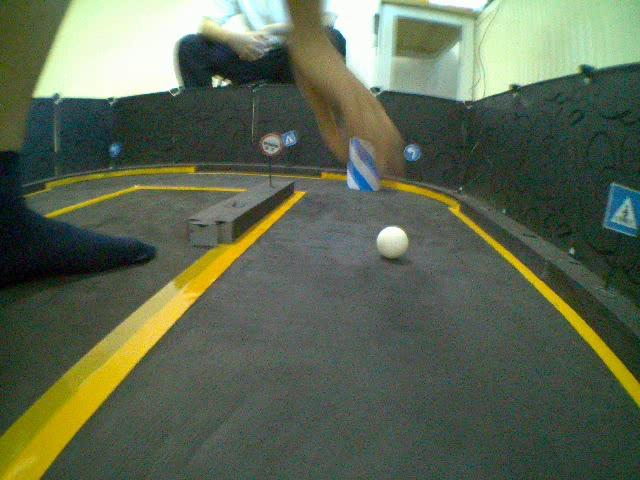ball: (376, 222, 412, 266)
